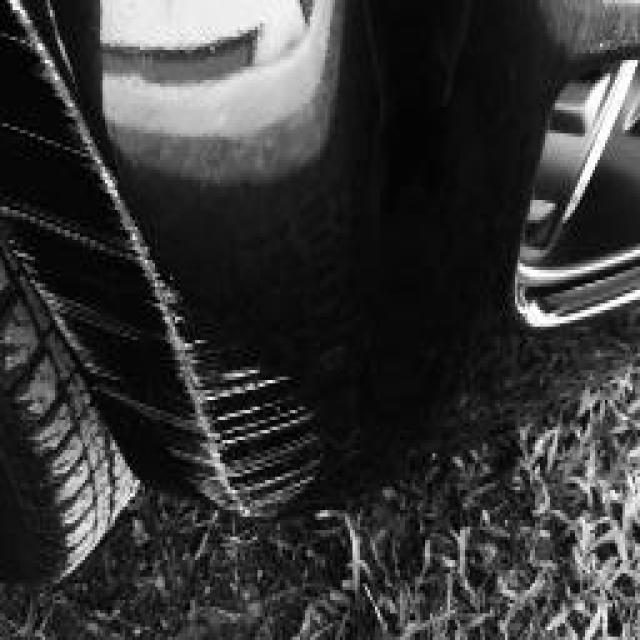Bumper: (0, 3, 525, 520)
